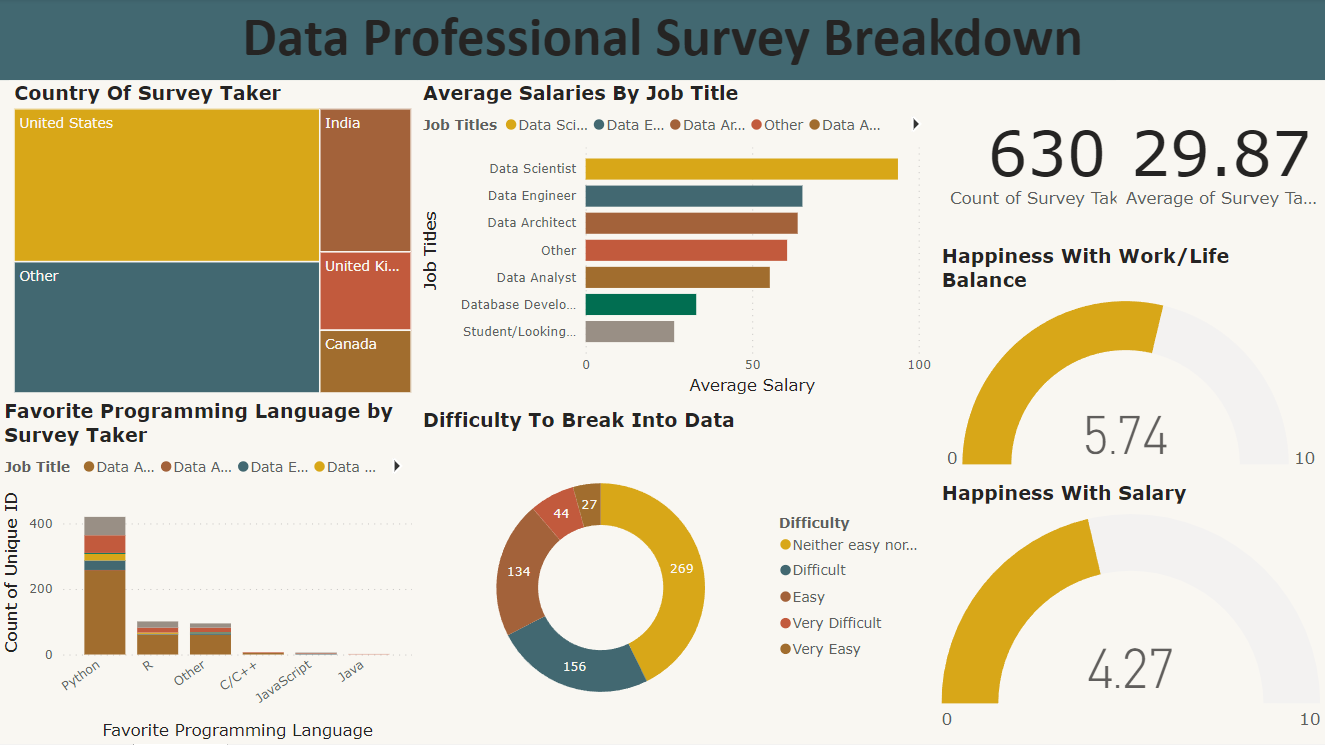

Layout of this report page (visuals, bound fields, positions):
{"tool":"powerbi","page":{"name":"Page 1","canvas":[1280,720],"ordinal":0},"visuals":[{"type":"textbox","box":[9.6,0,1270.7,81],"z":0},{"type":"card","fields":{"Values":["CountNonNull(Data Professional Survey.Unique ID)"]},"box":[904.8,80.2,213.8,151.4],"z":1000},{"type":"card","fields":{"Values":["Avg(Data Professional Survey.Q10 - Current Age)"]},"box":[1077.9,80.2,202.3,151.4],"z":2000},{"type":"barChart","title":"Average Salaries By Job Title ","fields":{"Category":["Data Professional Survey.Q1 - Which Title Best Fits your Current Role?.1"],"Y":["Avg(Data Professional Survey.Average Salary)"],"Series":["Data Professional Survey.Q1 - Which Title Best Fits your Current Role?.1"]},"box":[404,79.6,500.5,307.5],"z":3000},{"type":"columnChart","title":" Favorite Programming Language by Survey Taker","fields":{"Category":["Data Professional Survey.Q5 - Favorite Programming Language.1"],"Y":["CountNonNull(Data Professional Survey.Unique ID)"],"Series":["Data Professional Survey.Q1 - Which Title Best Fits your Current Role?.1"]},"box":[0,386.9,403.4,333.4],"z":4000},{"type":"treemap","title":"Country Of Survey Taker","fields":{"Group":["Data Professional Survey.Q11 - Which Country do you live in?.1"],"Values":["CountNonNull(Data Professional Survey.Q11 - Which Country do you live in?.1)"]},"box":[10.2,80.2,393.2,306.7],"z":5000},{"type":"gauge","title":"Happiness With Work/Life Balance ","fields":{"Y":["Avg(Data Professional Survey.Q6 - How Happy are you in your Current Position with the following? (Work/Life Balance))"],"MinValue":["Min(Data Professional Survey.Q6 - How Happy are you in your Current Position with the following? (Work/Life Balance))"],"MaxValue":["Max(Data Professional Survey.Q6 - How Happy are you in your Current Position with the following? (Work/Life Balance))"]},"box":[904.8,238,375.4,227.8],"z":6000},{"type":"gauge","title":"Happiness With Salary","fields":{"Y":["Avg(Data Professional Survey.Q6 - How Happy are you in your Current Position with the following? (Salary))"],"MinValue":["Min(Data Professional Survey.Q6 - How Happy are you in your Current Position with the following? (Salary))"],"MaxValue":["Max(Data Professional Survey.Q6 - How Happy are you in your Current Position with the following? (Salary))"]},"box":[904.8,465.8,375.4,254.5],"z":7000},{"type":"donutChart","title":"Difficulty To Break Into Data","fields":{"Category":["Data Professional Survey.Q7 - How difficult was it for you to break into Data?"],"Y":["CountNonNull(Data Professional Survey.Q7 - How difficult was it for you to break into Data?)"]},"box":[403.4,395.8,501.4,324.5],"z":8000}]}

Visuals, with their boxes in screenshot pixels (x1, y1, x2, y2), scaled from the page's 1280x720 canvas onto the 1325x745 screenshot:
textbox: {"left": 10, "top": 0, "right": 1324, "bottom": 84}
card - CountNonNull(Data Professional Survey.Unique ID): {"left": 937, "top": 83, "right": 1158, "bottom": 240}
card - Avg(Data Professional Survey.Q10 - Current Age): {"left": 1116, "top": 83, "right": 1324, "bottom": 240}
"Average Salaries By Job Title " barChart: {"left": 418, "top": 82, "right": 936, "bottom": 401}
" Favorite Programming Language by Survey Taker" columnChart: {"left": 0, "top": 400, "right": 418, "bottom": 744}
"Country Of Survey Taker" treemap: {"left": 11, "top": 83, "right": 418, "bottom": 400}
"Happiness With Work/Life Balance " gauge: {"left": 937, "top": 246, "right": 1324, "bottom": 482}
"Happiness With Salary" gauge: {"left": 937, "top": 482, "right": 1324, "bottom": 744}
"Difficulty To Break Into Data" donutChart: {"left": 418, "top": 410, "right": 937, "bottom": 744}
